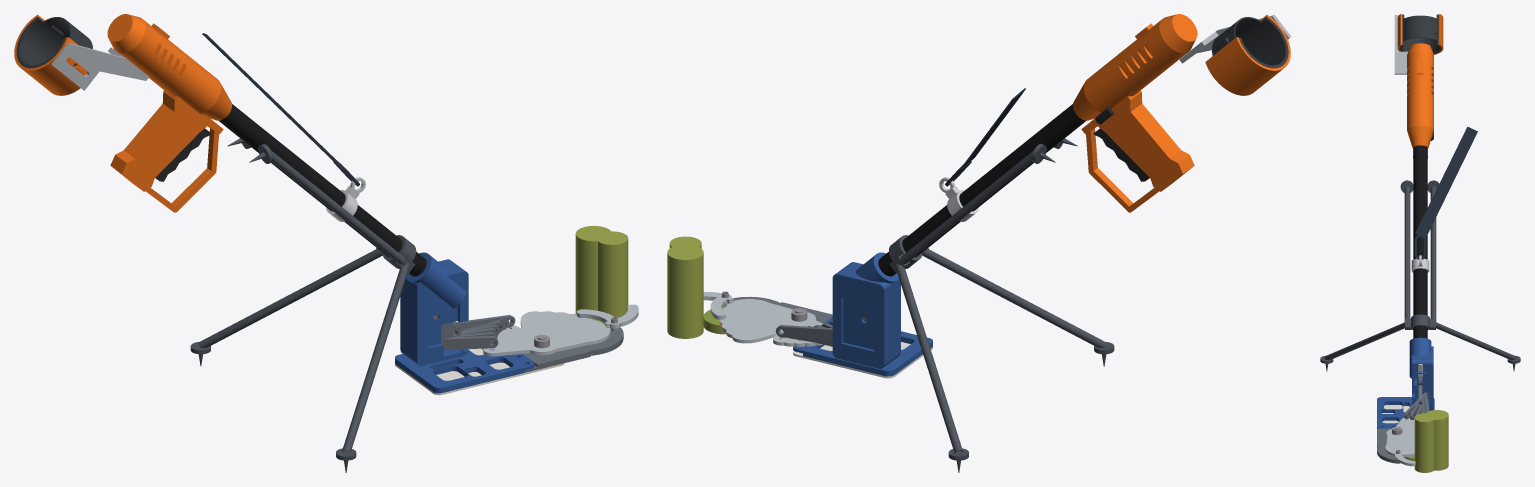
File: tijera.glb
3 views of the same model, side by side, from view 1: azimuth 30°, elevation 25°; view 2: azimuth 150°, elevation 25°; view 3: azimuth 270°, elevation 25° (orthographic). The views are drawn at different scales.
Parts seen in each view (by area): view 1: P11, P05, P10, P19@1, P08, P03, XVECINA2, P19@0, P15, P13, XVECINA1, P14 (+7 smaller); view 2: P05, P10, P11, P19@1, P08, XVECINA1, P14, P19@0, P15, P03, P02@0, P02@20 (+3 smaller); view 3: P10, P08, P19@0, C08, P05, P19@1, P15, XVECINA2, XVECINA1, P03, P13, P14 (+3 smaller).
Boxes of the visible parts, x1,y1,x2,y2 form: P11: [110, 90, 223, 212]; P05: [400, 252, 468, 366]; P10: [107, 14, 231, 120]; P19@1: [190, 248, 413, 472]; P08: [219, 104, 426, 276]; P03: [395, 349, 534, 393]; XVECINA2: [596, 231, 628, 317]; P19@0: [227, 138, 416, 272]; P15: [16, 17, 92, 68]; P13: [51, 42, 148, 90]; XVECINA1: [575, 226, 611, 313]; P14: [14, 14, 86, 95]; P05: [832, 252, 900, 368]; P10: [1073, 14, 1197, 120]; P11: [1081, 90, 1194, 212]; P19@1: [892, 248, 1114, 472]; P08: [878, 104, 1086, 276]; XVECINA1: [667, 244, 703, 338]; P14: [1205, 14, 1290, 95]; P19@0: [889, 138, 1077, 273]; P15: [1212, 17, 1288, 68]; P03: [793, 317, 932, 376]; P02@0: [726, 299, 815, 345]; P02@20: [724, 306, 813, 346]; P10: [1407, 43, 1433, 148]; P08: [1413, 145, 1427, 338]; P19@0: [1400, 180, 1439, 329]; C08: [1414, 126, 1477, 259]; P05: [1409, 337, 1433, 410]; P19@1: [1320, 322, 1520, 371]; P15: [1399, 14, 1441, 53]; XVECINA2: [1414, 413, 1434, 472]; XVECINA1: [1425, 410, 1448, 470]; P03: [1377, 397, 1434, 428]; P13: [1394, 15, 1407, 74]; P14: [1397, 14, 1443, 54].
Size of the model in its own units: 0.971 by 0.6853 by 0.428.
